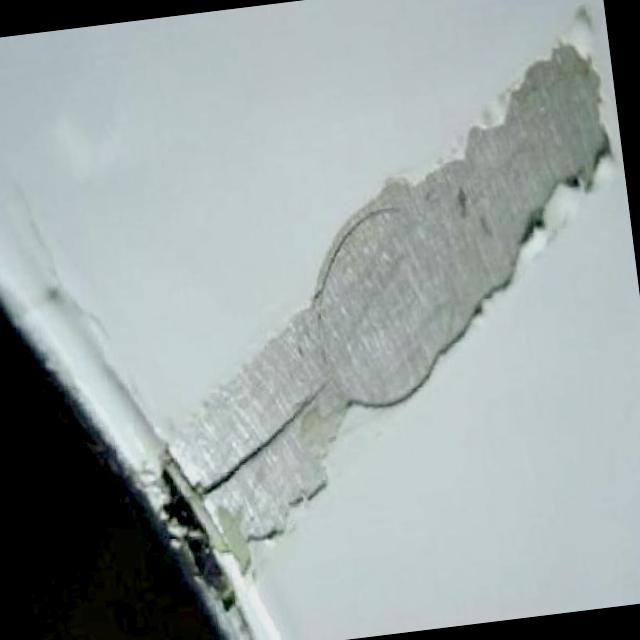crack: (195, 444, 269, 497), (260, 386, 330, 440)
